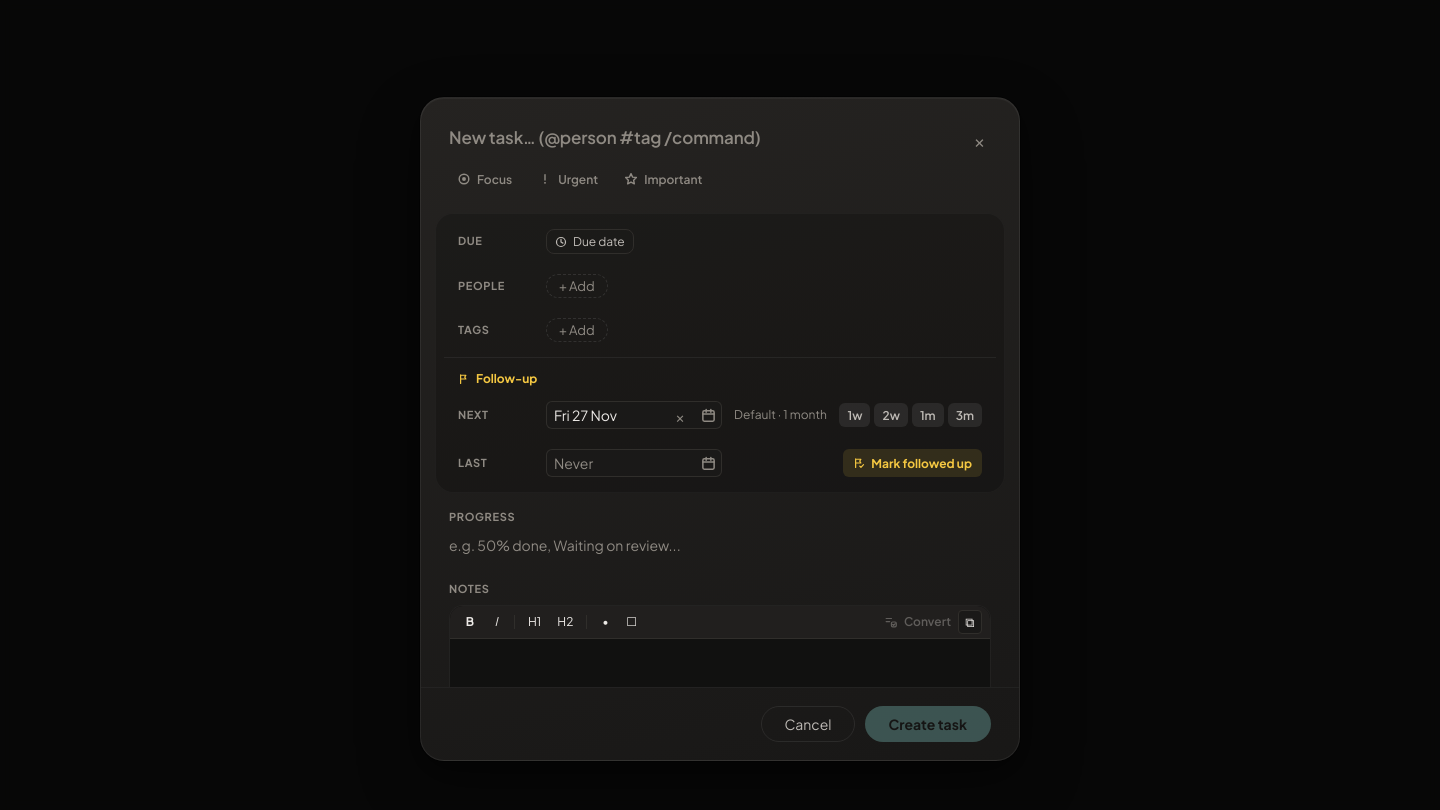
Test: task title autocomplete — tags › accept › accepted tag preserves surrounding title text
The width and height of the screenshot is (1440, 810).
Type "fix #ur" into the field with placeholder "New task… (@person #tag /command)" at (703, 138), box x1=449 y1=126 x2=956 y2=150
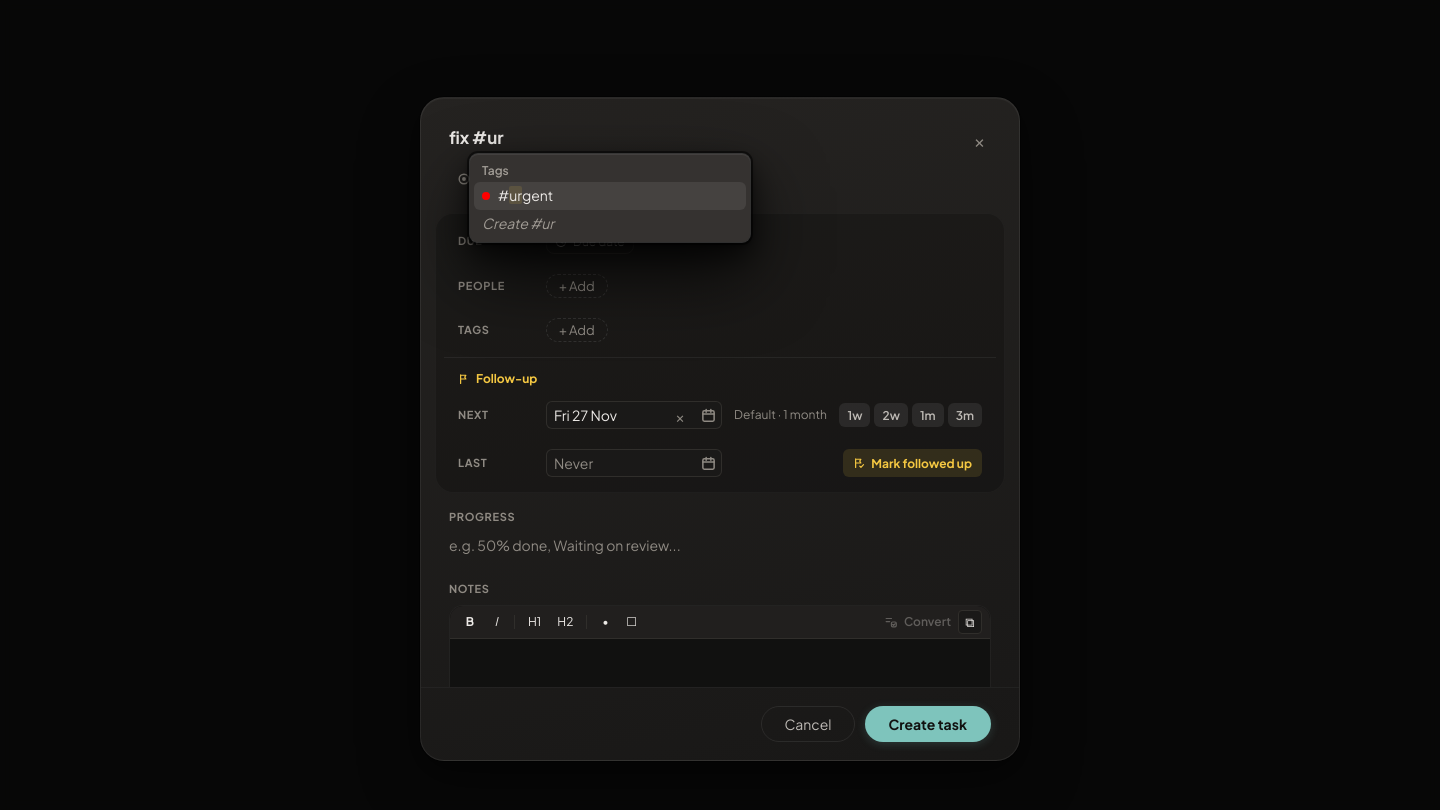
Press Enter in the 1st field with placeholder "New task… (@person #tag /command)", box x1=449 y1=126 x2=956 y2=150
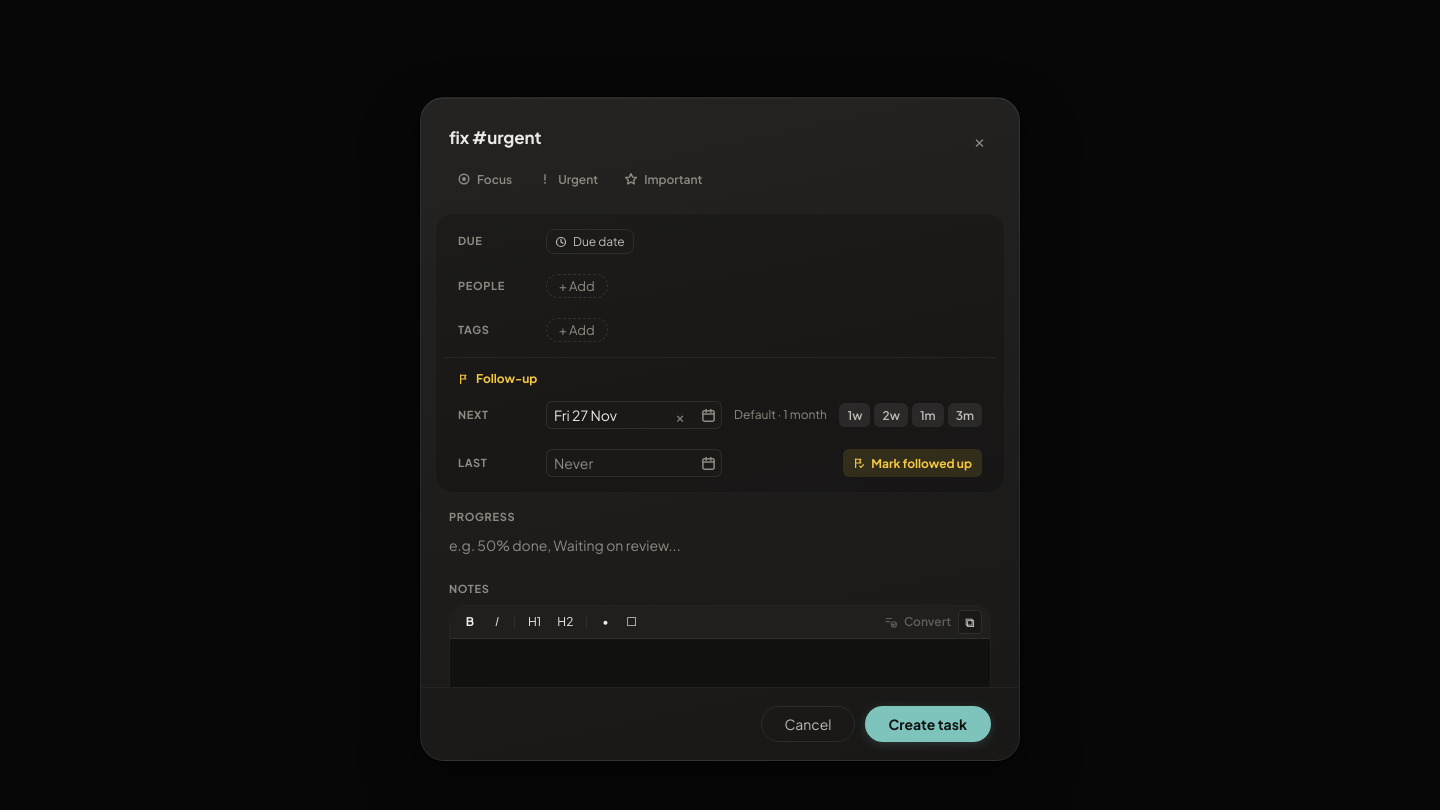
Expected: the 1st field with placeholder "New task… (@person #tag /command)" holds "fix #urgent ", x1=449 y1=126 x2=956 y2=150
